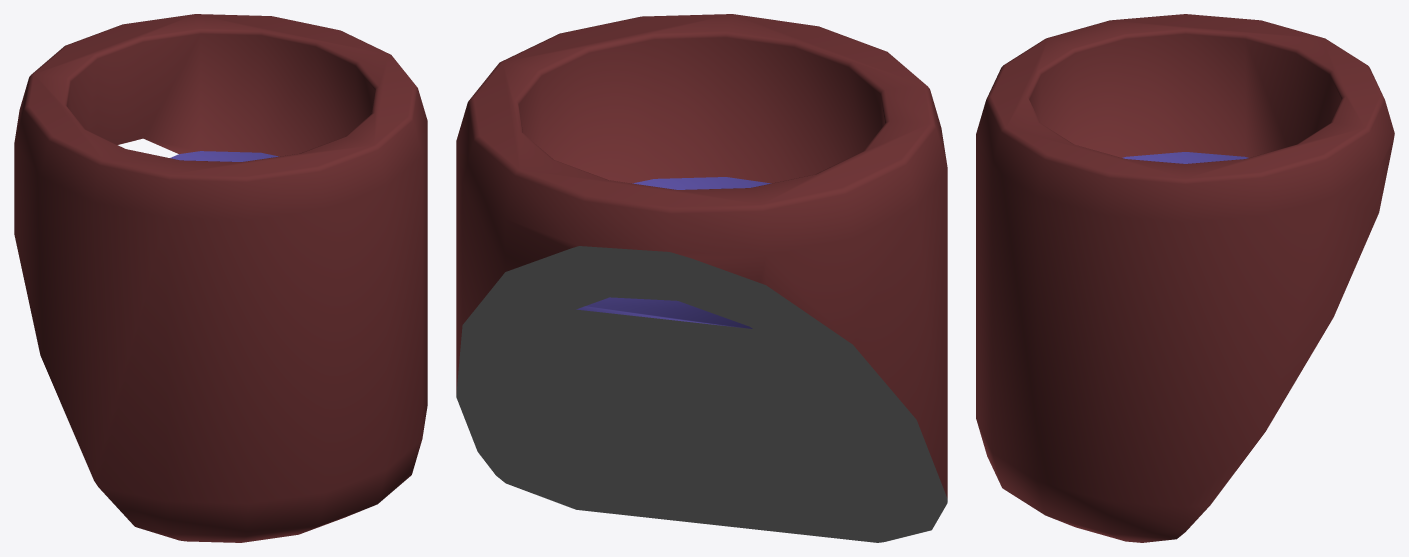
Rendered from vaso.fbx.
3 views of the same model, side by side, from view 1: azimuth 30°, elevation 25°; view 2: azimuth 150°, elevation 25°; view 3: azimuth 270°, elevation 25° (orthographic). The views are drawn at different scales.
Parts seen in each view (by area): view 1: Vaso_cell; view 2: Vaso_cell; view 3: Vaso_cell.
Part boxes in pixels (box(x1,y1,x2,y2)): Vaso_cell: box(14, 14, 427, 542); Vaso_cell: box(456, 14, 947, 542); Vaso_cell: box(976, 14, 1394, 542).
Size of the model in its own units: 148 by 150 by 148.
